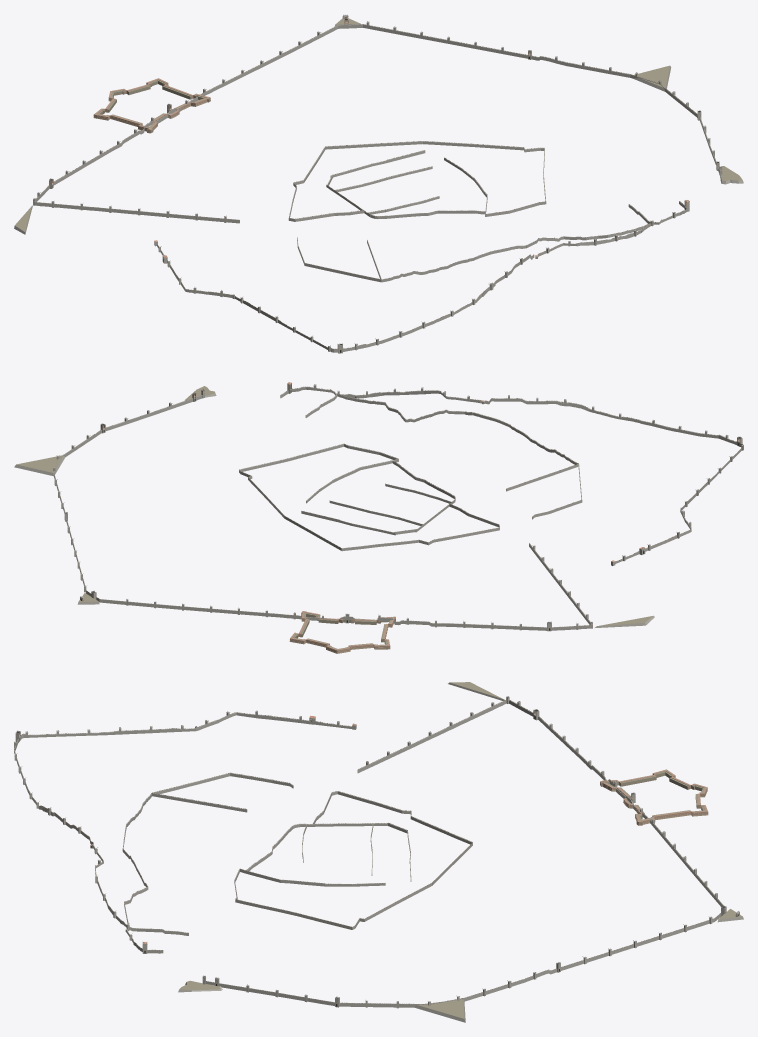
File: mura.glb
3 renders of one model, top to bottom at view 1: azimuth 30°, elevation 25°; view 2: azimuth 150°, elevation 25°; view 3: azimuth 270°, elevation 25°, orthographic. The views are drawn at different scales.
Parts seen in each view (by area): view 1: wall_north@1284-1868.rubble, wall_early_198777573@1172-1284.rubble, fortezza@1534-99999.brick, wall_north_w@1284-1868.rubble, wall_early_198777561@1072-1284.rubble, fortezza@1534-99999.earth; view 2: wall_north@1284-1868.rubble, wall_early_198777573@1172-1284.rubble, fortezza@1534-99999.brick, wall_early_198777563@1172-1284.rubble, wall_giorgio_niccolo@1320-99999.rubble, fortezza@1534-99999.earth, wall_early_198777562@1172-1284.rubble; view 3: wall_north@1284-1868.rubble, fortezza@1534-99999.brick, wall_north_w@1284-1868.rubble, fortezza@1534-99999.earth, wall_early_198777563@1172-1284.rubble, wall_early_198777573@1172-1284.rubble, wall_ariosto_petrarca@1320-99999.rubble.
Part boxes in pixels (<box>): wall_north@1284-1868.rubble: <box>36,24,719,201</box>; wall_early_198777573@1172-1284.rubble: <box>381,204,650,282</box>; fortezza@1534-99999.brick: <box>93,78,210,133</box>; wall_north_w@1284-1868.rubble: <box>33,202,239,223</box>; wall_early_198777561@1072-1284.rubble: <box>325,141,544,152</box>; fortezza@1534-99999.earth: <box>95,80,209,132</box>; wall_north@1284-1868.rubble: <box>54,395,592,630</box>; wall_early_198777573@1172-1284.rubble: <box>305,393,578,464</box>; fortezza@1534-99999.brick: <box>290,611,395,652</box>; wall_early_198777563@1172-1284.rubble: <box>342,504,499,551</box>; wall_giorgio_niccolo@1320-99999.rubble: <box>306,387,481,403</box>; fortezza@1534-99999.earth: <box>293,611,395,649</box>; wall_early_198777562@1172-1284.rubble: <box>239,444,398,471</box>; wall_north@1284-1868.rubble: <box>206,700,723,1007</box>; fortezza@1534-99999.brick: <box>600,769,708,825</box>; wall_north_w@1284-1868.rubble: <box>357,700,506,773</box>; fortezza@1534-99999.earth: <box>600,771,704,825</box>; wall_early_198777563@1172-1284.rubble: <box>312,791,472,844</box>; wall_early_198777573@1172-1284.rubble: <box>122,793,188,935</box>; wall_ariosto_petrarca@1320-99999.rubble: <box>20,728,197,739</box>.
Bounding box in the file's own units: 2964 × 108 × 2682.
